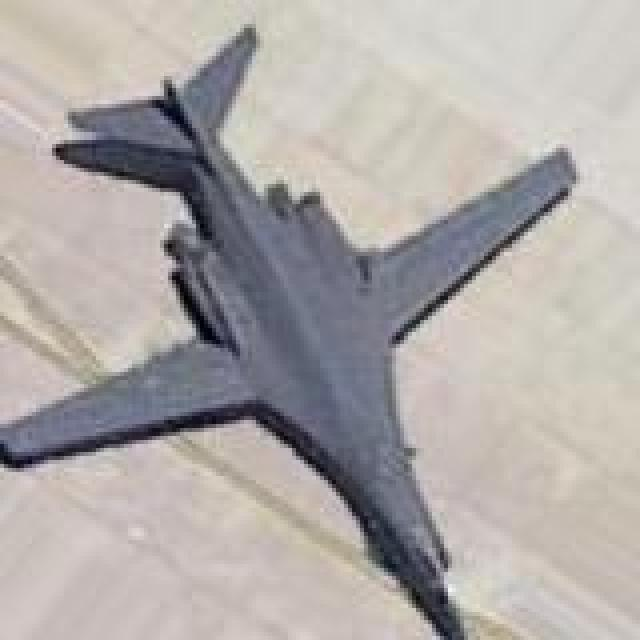B-1_TopDown: (0, 16, 580, 636)
